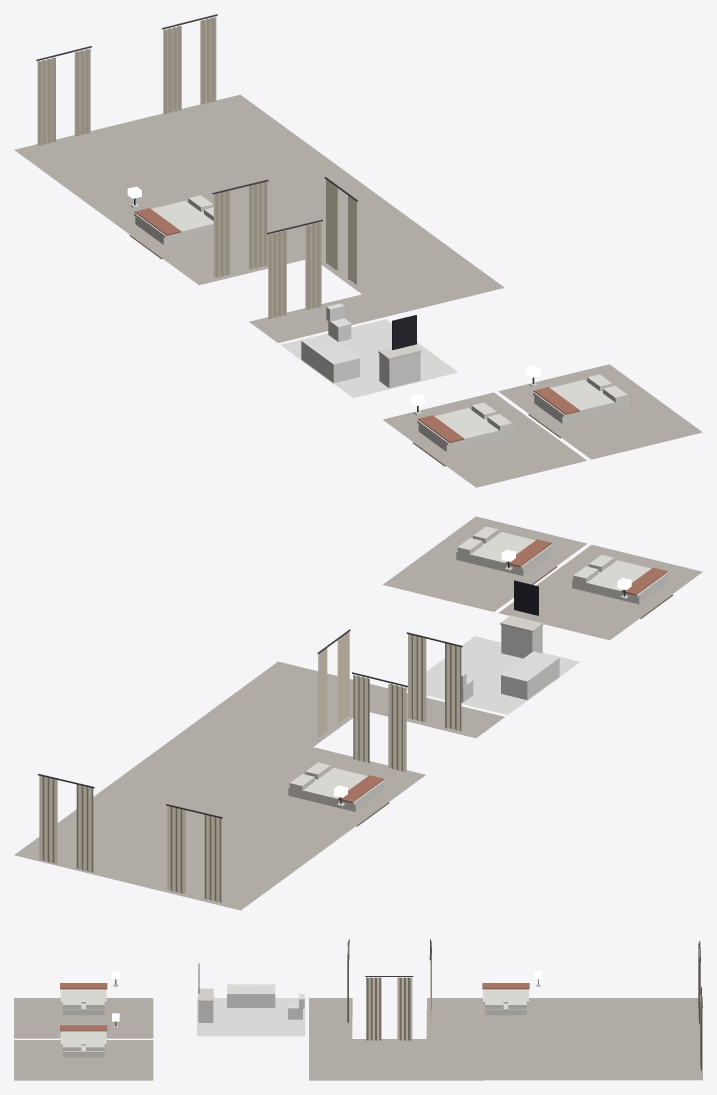
File: fine-s2.glb
3 views of the same model, one above another, from view 1: azimuth 30°, elevation 25°; view 2: azimuth 150°, elevation 25°; view 3: azimuth 270°, elevation 25° (orthographic). The views are drawn at different scales.
Visible parts, largest first — view 1: soft-s2, vanity.001, bathtub.001, toilet.001; view 2: soft-s2, vanity.001, bathtub.001; view 3: soft-s2, bathtub.001, vanity.001, toilet.001.
Part boxes in pixels (bbox=[...]): soft-s2: bbox=[14, 14, 702, 487]; vanity.001: bbox=[378, 315, 421, 388]; bathtub.001: bbox=[301, 334, 359, 383]; toilet.001: bbox=[326, 303, 351, 341]; soft-s2: bbox=[14, 516, 702, 910]; vanity.001: bbox=[500, 580, 543, 658]; bathtub.001: bbox=[501, 651, 559, 700]; soft-s2: bbox=[14, 939, 702, 1080]; bathtub.001: bbox=[227, 984, 275, 1007]; vanity.001: bbox=[198, 963, 213, 1022]; toilet.001: bbox=[287, 994, 304, 1019].
Size of the model in its own units: 6.56 by 2.4 by 23.05.
